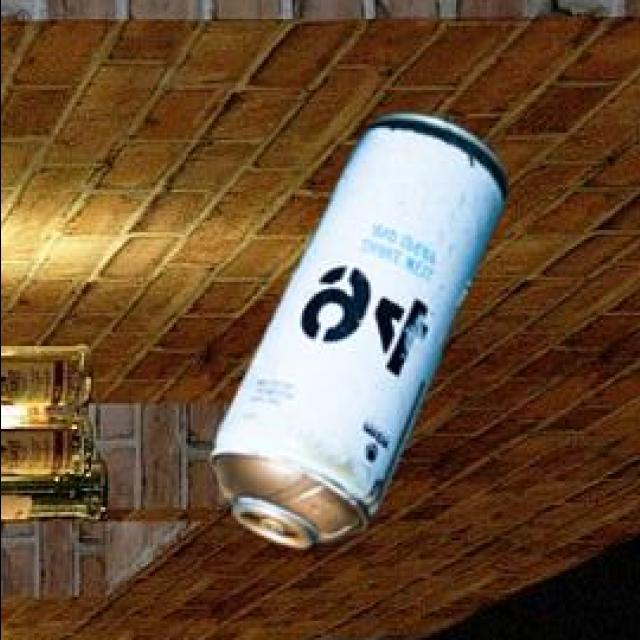logam: (212, 117, 511, 551)
